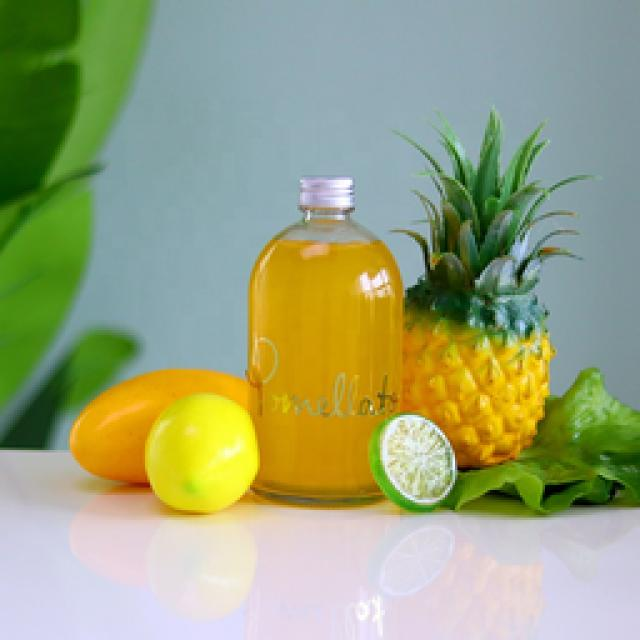glass_beverage_bottles: (248, 177, 405, 500)
